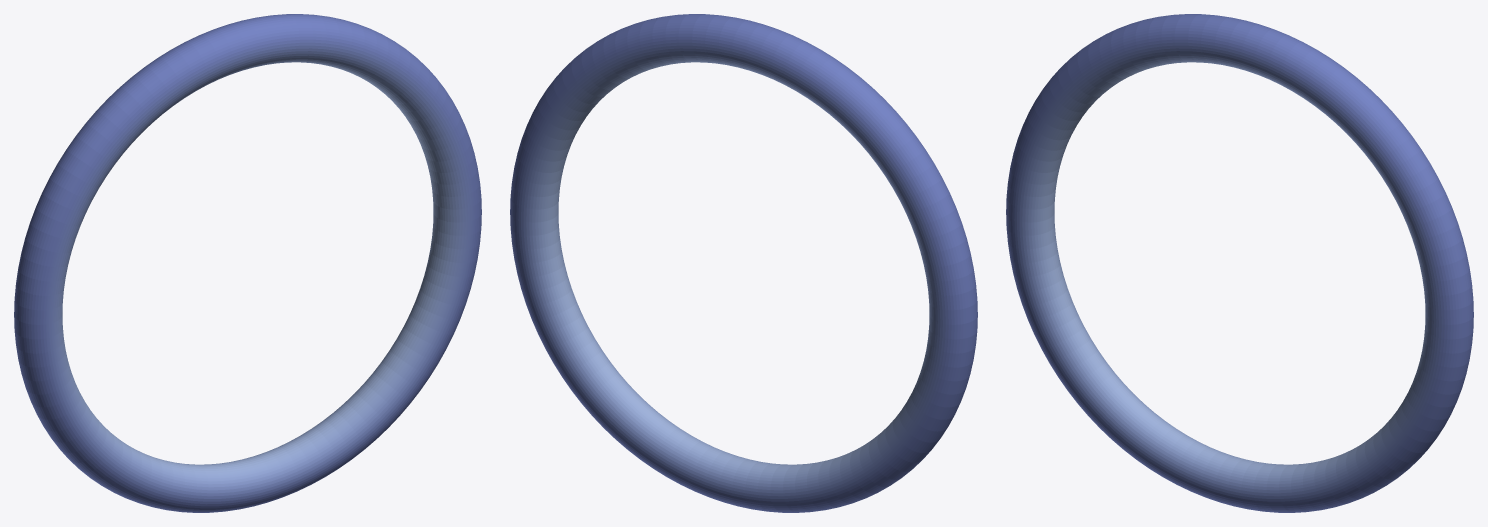
The picture shows the model from 3 angles, left to right: view 1: azimuth 30°, elevation 25°; view 2: azimuth 150°, elevation 25°; view 3: azimuth 330°, elevation 25°; orthographic projection.
Visible parts, largest first — view 1: world; view 2: world; view 3: world.
Part boxes in pixels (<box>): world: <box>14,14,481,512</box>; world: <box>510,14,977,512</box>; world: <box>1006,14,1473,512</box>.
Size of the model in its own units: 27.87 by 27.87 by 2.53.
